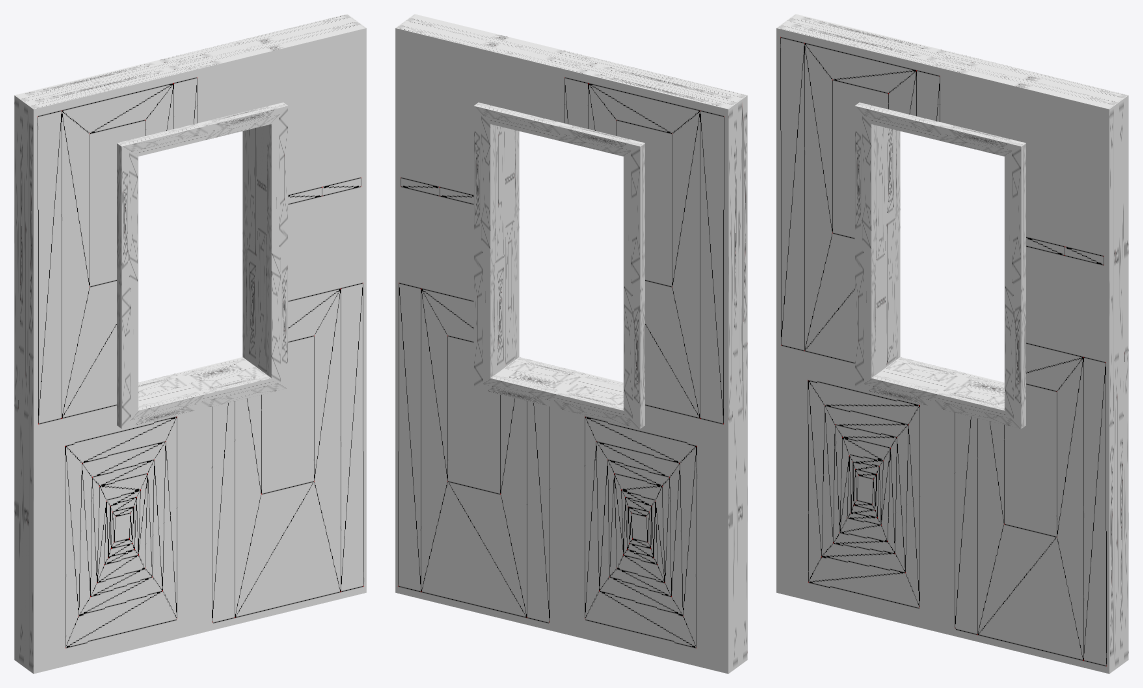
The model's file is wall_with_small_window.obj.
3 renders of one model, left to right at view 1: azimuth 30°, elevation 25°; view 2: azimuth 150°, elevation 25°; view 3: azimuth 330°, elevation 25°, orthographic.
Bounding box in the file's own units: 2 × 3.24 × 0.3.
